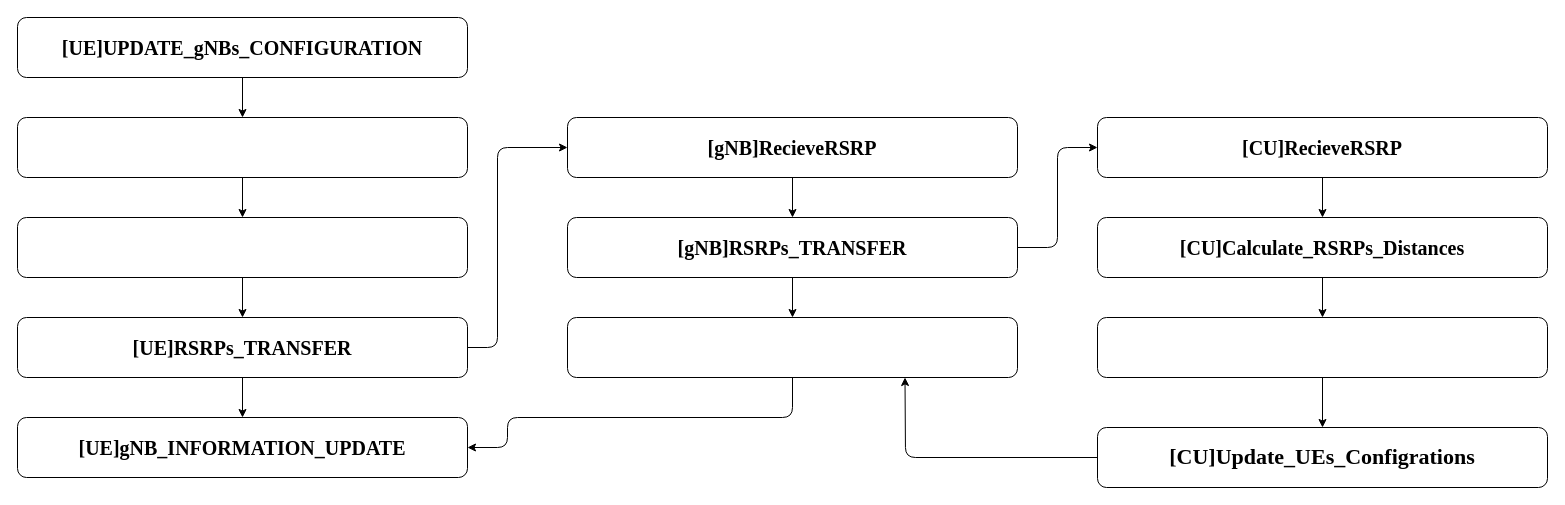
This 1565x505 diagram has some shape labels left out. The shapes that lost their labels are listed below. From the top down, each one's box as (x1, y1, x2, y2) in pixels, then its label:
(16, 116, 468, 178): [UE]COMMUNICATION_MODEL_DECISION
(16, 216, 468, 278): [UE]RSRP_CALCULATION
(566, 316, 1018, 378): [gNB] OUTOFRANGECLACUATION
(1096, 316, 1548, 378): [CU] Calculate_RSRPs_T hreephase_Stator
